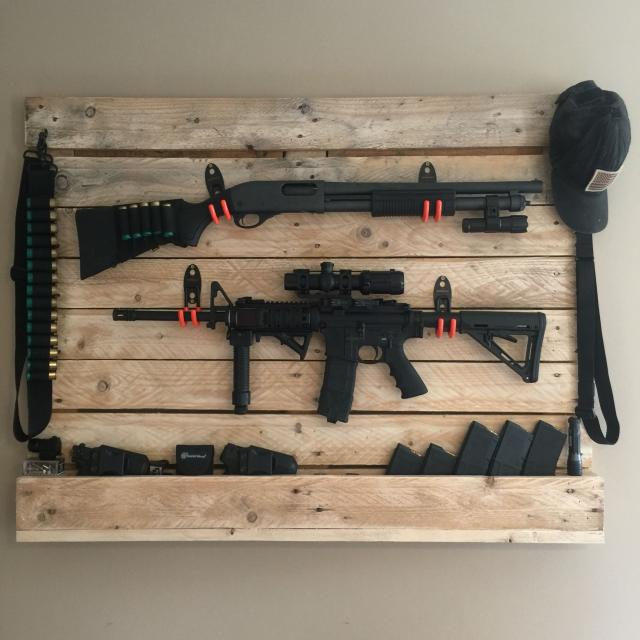gun: (100, 256, 563, 410), (79, 163, 550, 281)
